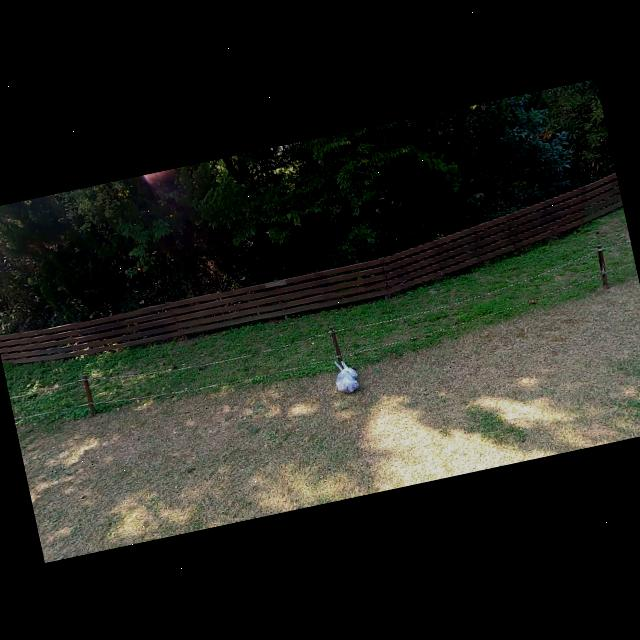trash: (330, 357, 360, 395), (340, 357, 358, 379)
